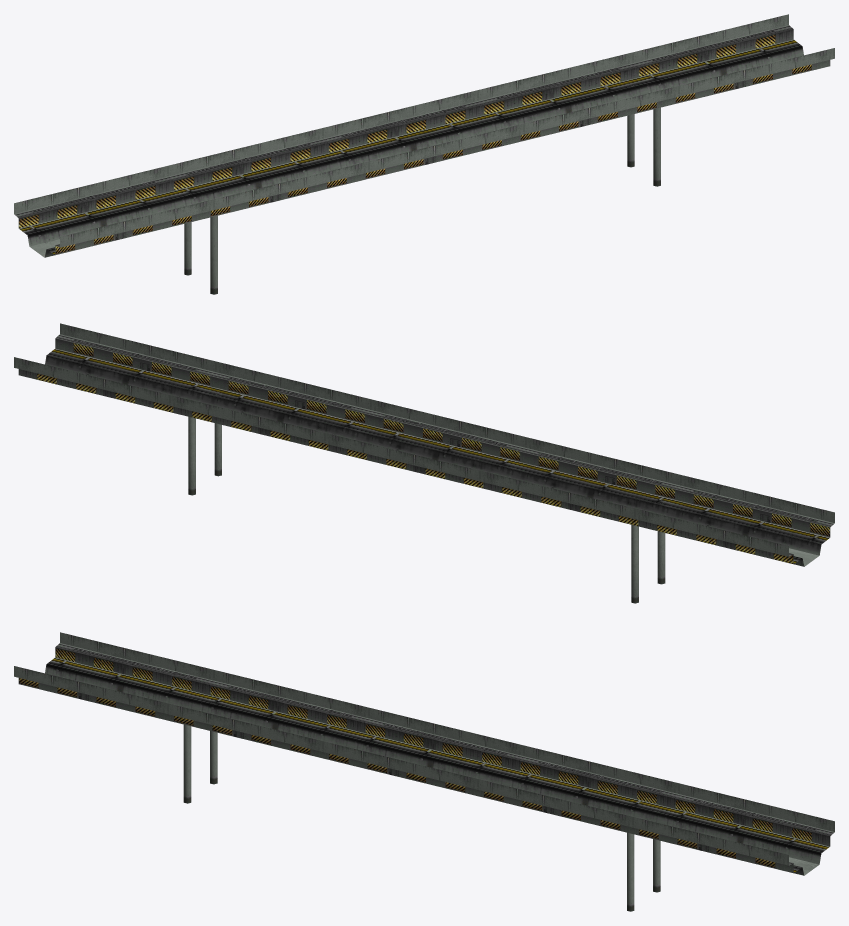
Rendered from bridge.fbx.
3 renders of one model, top to bottom at view 1: azimuth 30°, elevation 25°; view 2: azimuth 150°, elevation 25°; view 3: azimuth 330°, elevation 25°, orthographic.
Visible parts, largest first — view 1: qiao, zhuzi3, zhuzi2; view 2: qiao, zhuzi4, zhuzi1; view 3: qiao, zhuzi3, zhuzi2.
Part boxes in pixels (x1,y1,x2,y2): qiao: [14, 14, 834, 257]; zhuzi3: [210, 215, 217, 294]; zhuzi2: [653, 107, 660, 186]; qiao: [14, 323, 834, 566]; zhuzi4: [631, 525, 638, 603]; zhuzi1: [188, 416, 195, 495]; qiao: [14, 632, 834, 875]; zhuzi3: [183, 724, 191, 803]; zhuzi2: [627, 832, 634, 911].
Bounding box in the file's own units: 80 × 10.16 × 8.21.
